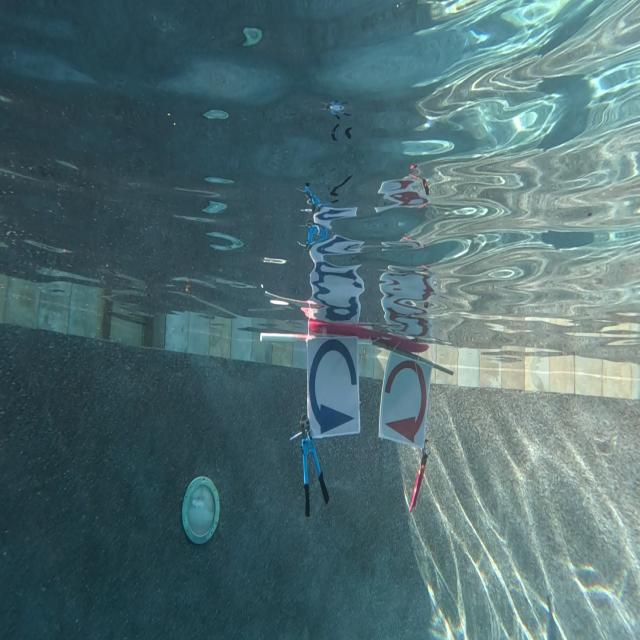blue_side: (308, 335, 363, 438)
red_side: (380, 348, 430, 449)
